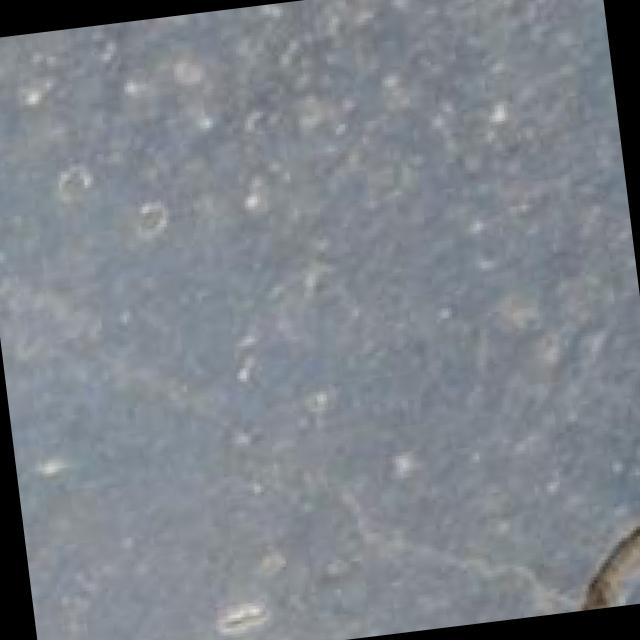crack: (521, 449, 640, 612)
